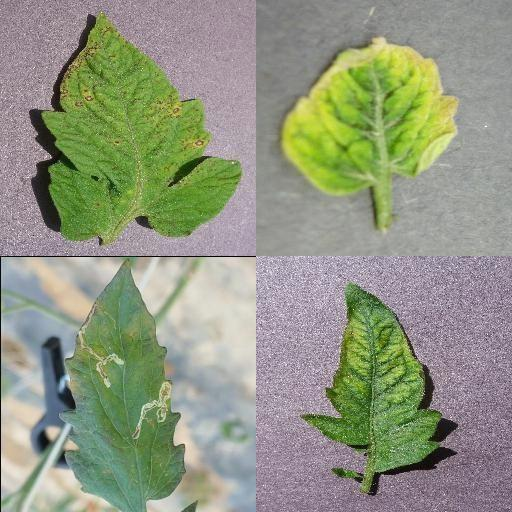Leaf Miner: (56, 257, 185, 512)
Mosaic Virus: (300, 281, 444, 473)
Septoria: (37, 14, 243, 242)
Yellow Leaf Curl Virus: (280, 36, 462, 200)
